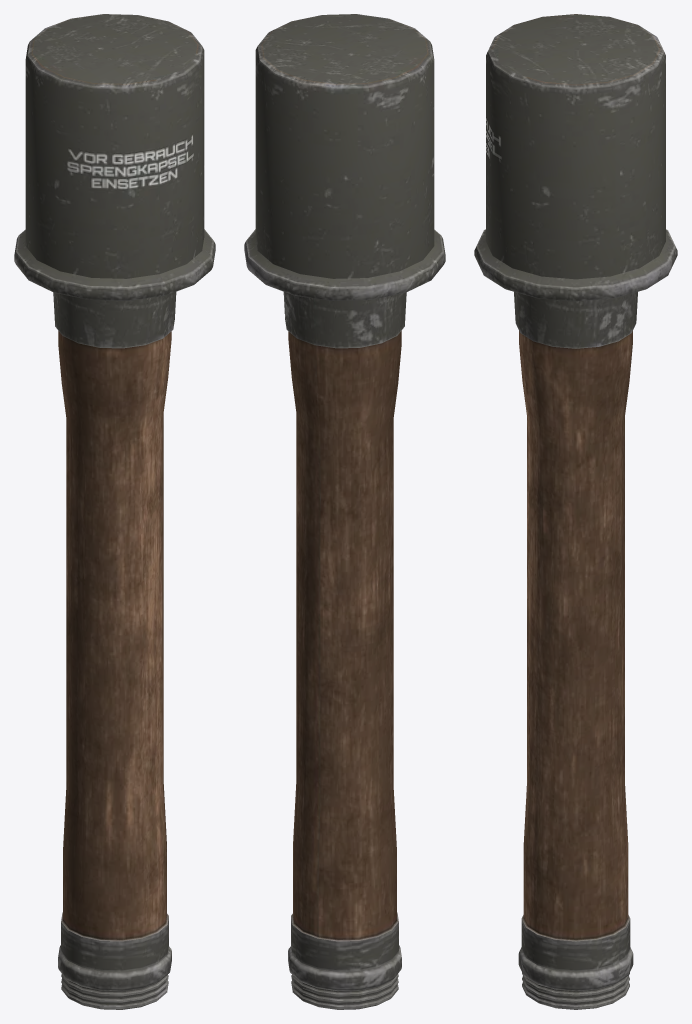
The model's file is M24Grenade.glb.
3 views of the same model, side by side, from view 1: azimuth 30°, elevation 25°; view 2: azimuth 150°, elevation 25°; view 3: azimuth 270°, elevation 25° (orthographic).
Visible parts, largest first — view 1: Cylinder_1; view 2: Cylinder_1; view 3: Cylinder_1.
Boxes of the visible parts, box(x1,y1,x2,y2) form: Cylinder_1: box(14, 14, 215, 1009); Cylinder_1: box(244, 14, 445, 1009); Cylinder_1: box(474, 14, 677, 1009).
Bounding box in the file's own units: 0.0491 × 0.2506 × 0.0491.
Materials: 1 (1 with a texture image).
